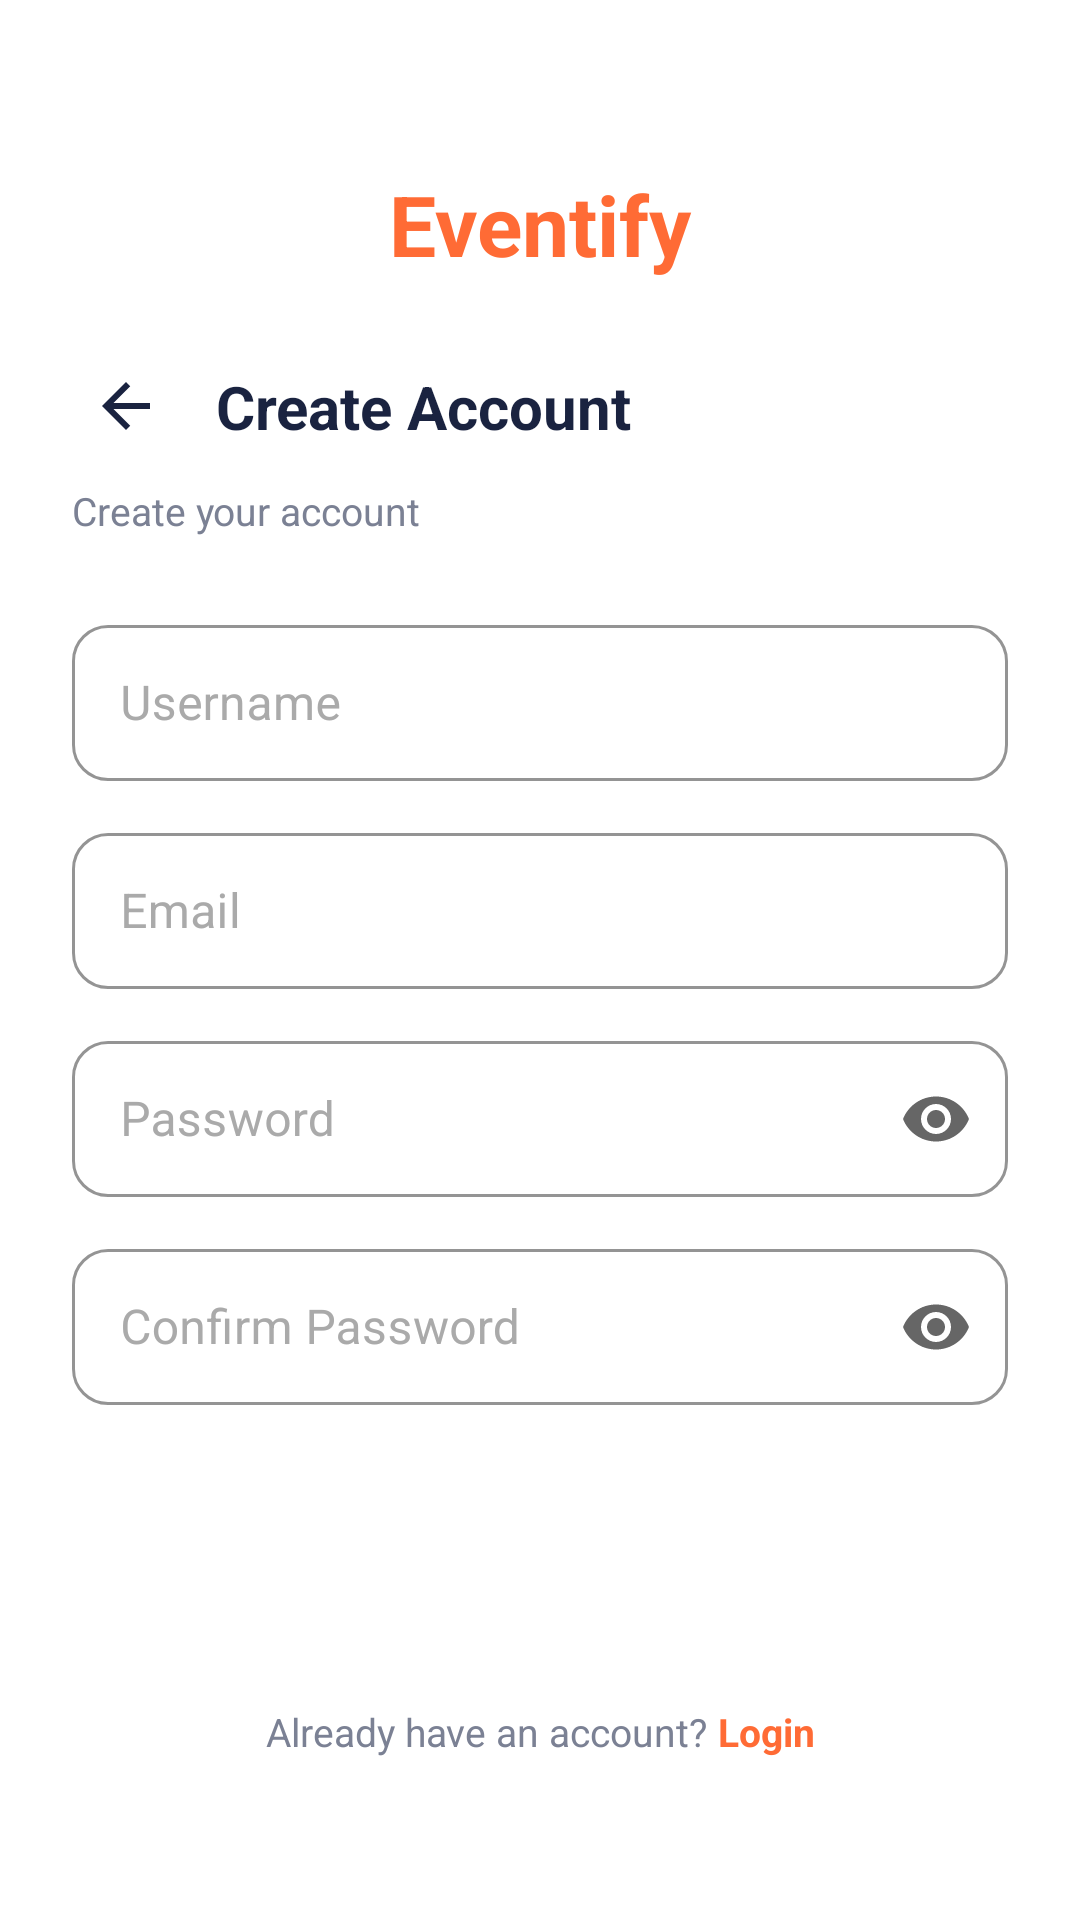

Named icons in this screenshot (1080×1920) and their centers, (x,y):
Back: (126,406)
